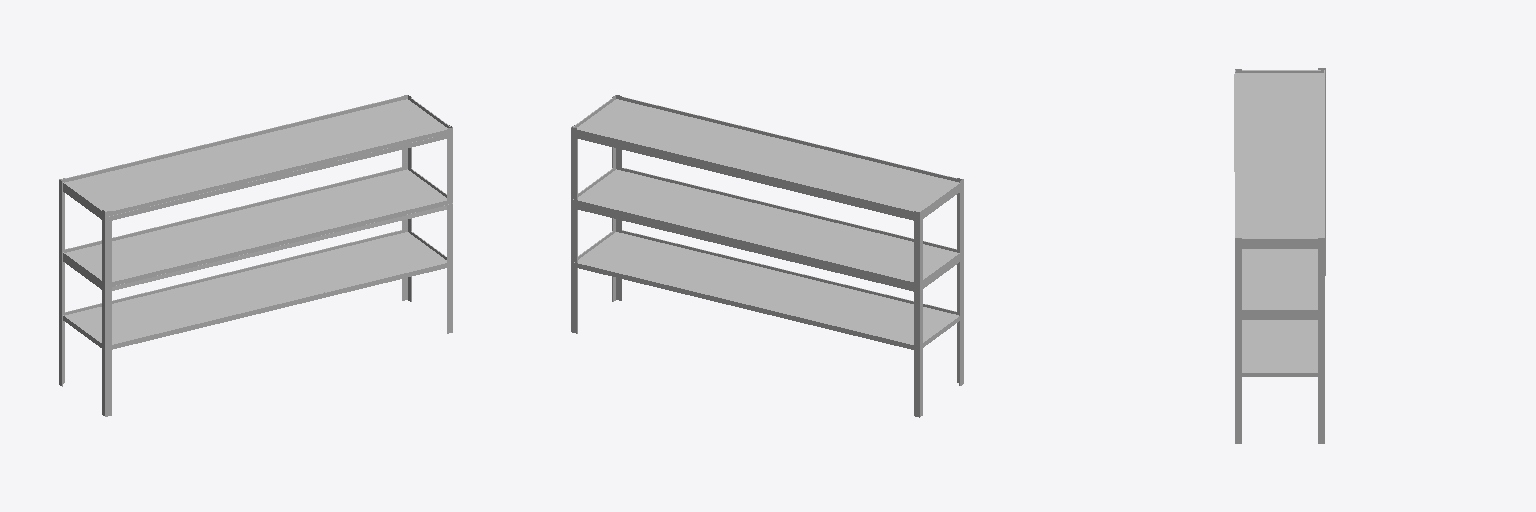
The model's file is shelving.obj.
3 views of the same model, side by side, from view 1: azimuth 30°, elevation 25°; view 2: azimuth 150°, elevation 25°; view 3: azimuth 270°, elevation 25° (orthographic).
Visible parts, largest first — view 1: polka; view 2: polka; view 3: polka.
Boxes of the visible parts, x1=… form: polka: x1=59, y1=95, x2=452, y2=416; polka: x1=571, y1=95, x2=963, y2=417; polka: x1=1234, y1=68, x2=1325, y2=443.
Bounding box in the file's own units: 1.03 × 0.5756 × 0.233.